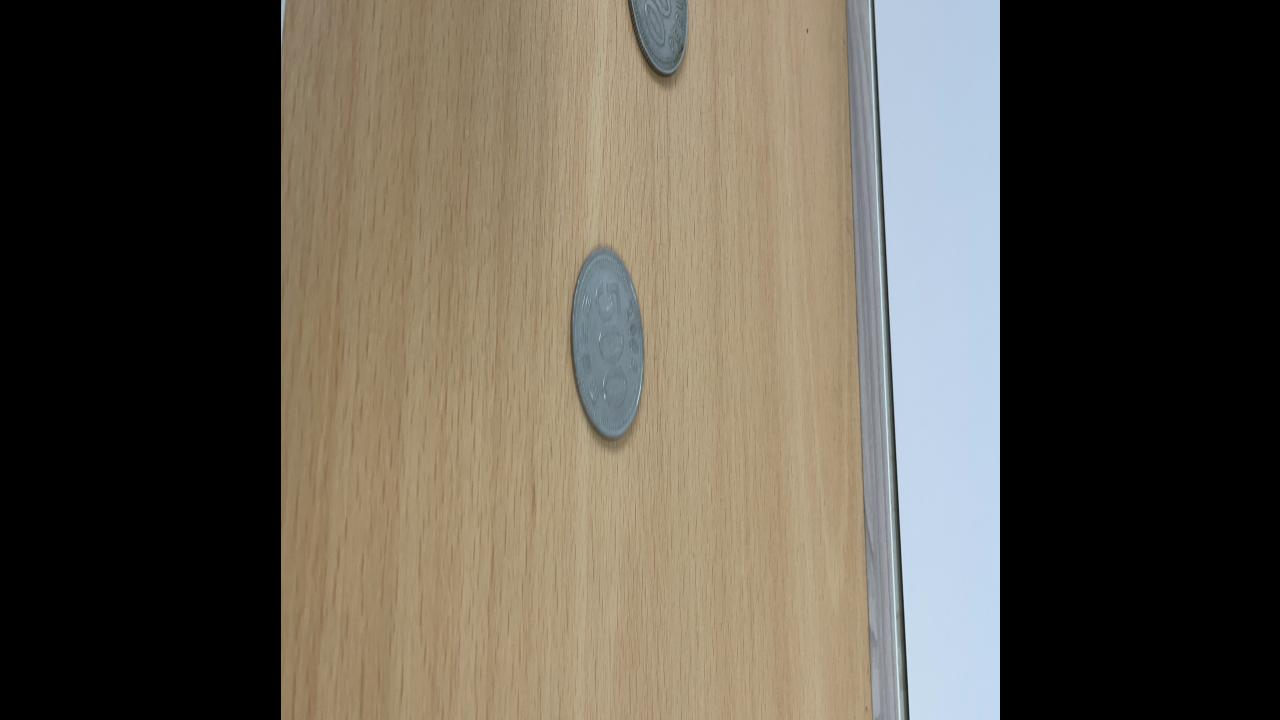coin: (569, 245, 643, 439), (623, 0, 689, 80)
